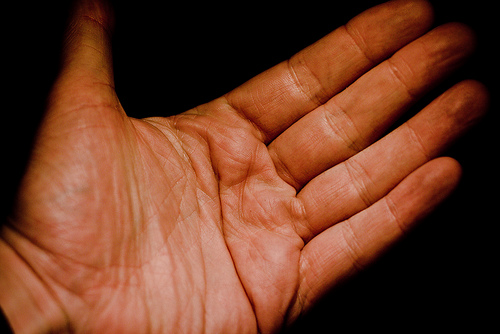palm: (49, 118, 311, 314)
